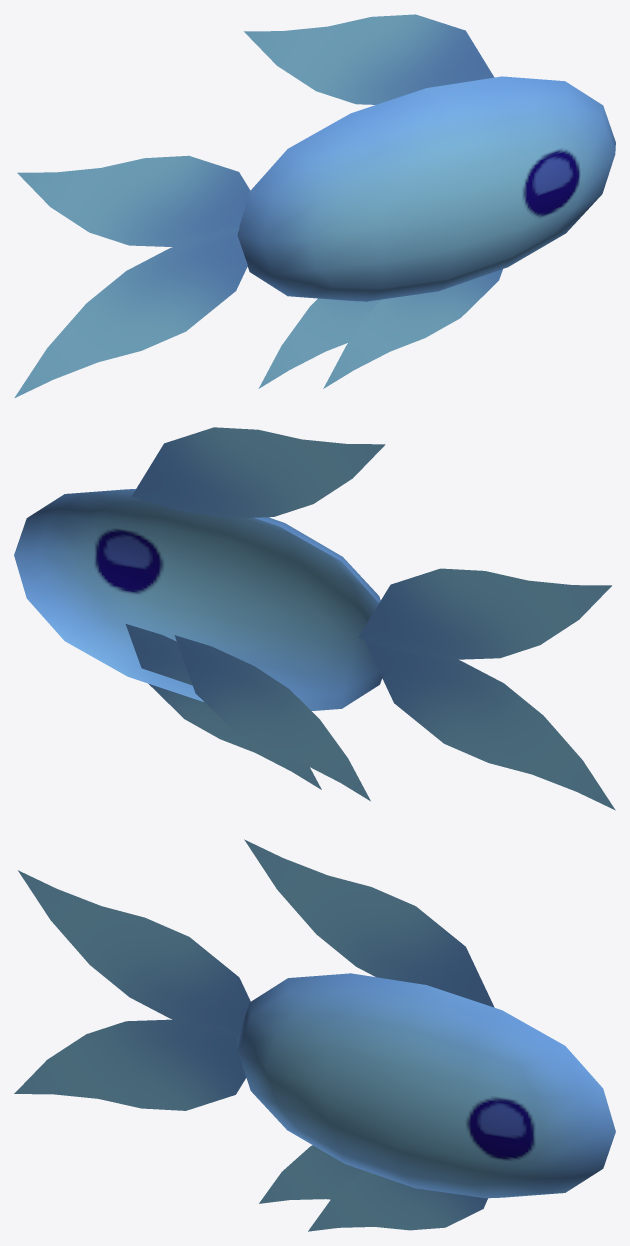
Rendered from Fish003.fbx.
The picture shows the model from 3 angles, top to bottom: view 1: azimuth 30°, elevation 25°; view 2: azimuth 150°, elevation 25°; view 3: azimuth 330°, elevation 25°; orthographic projection.
Visible parts, largest first — view 1: fish2; view 2: fish2; view 3: fish2.
Boxes of the visible parts, <box> form: fish2: <box>14,14,615,397</box>; fish2: <box>14,427,615,810</box>; fish2: <box>14,839,615,1231</box>.
Bounding box in the file's own units: 1.13 × 0.6627 × 0.0982.
Materials: 1 (1 with a texture image).
